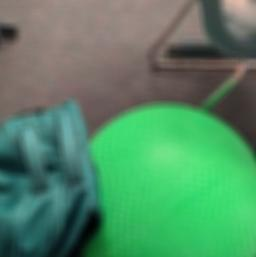algae: (80, 101, 256, 257)
